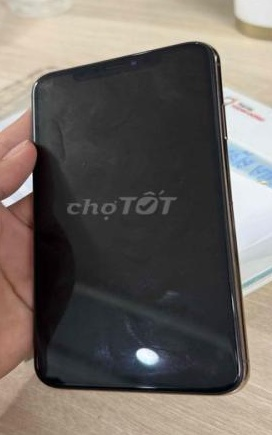scratch: (181, 35, 205, 55)
